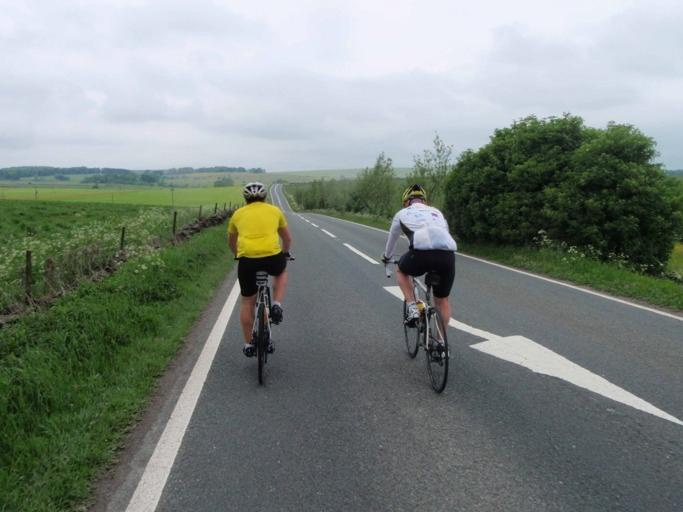non-vehicle: (384, 258, 454, 393), (234, 256, 294, 383)
